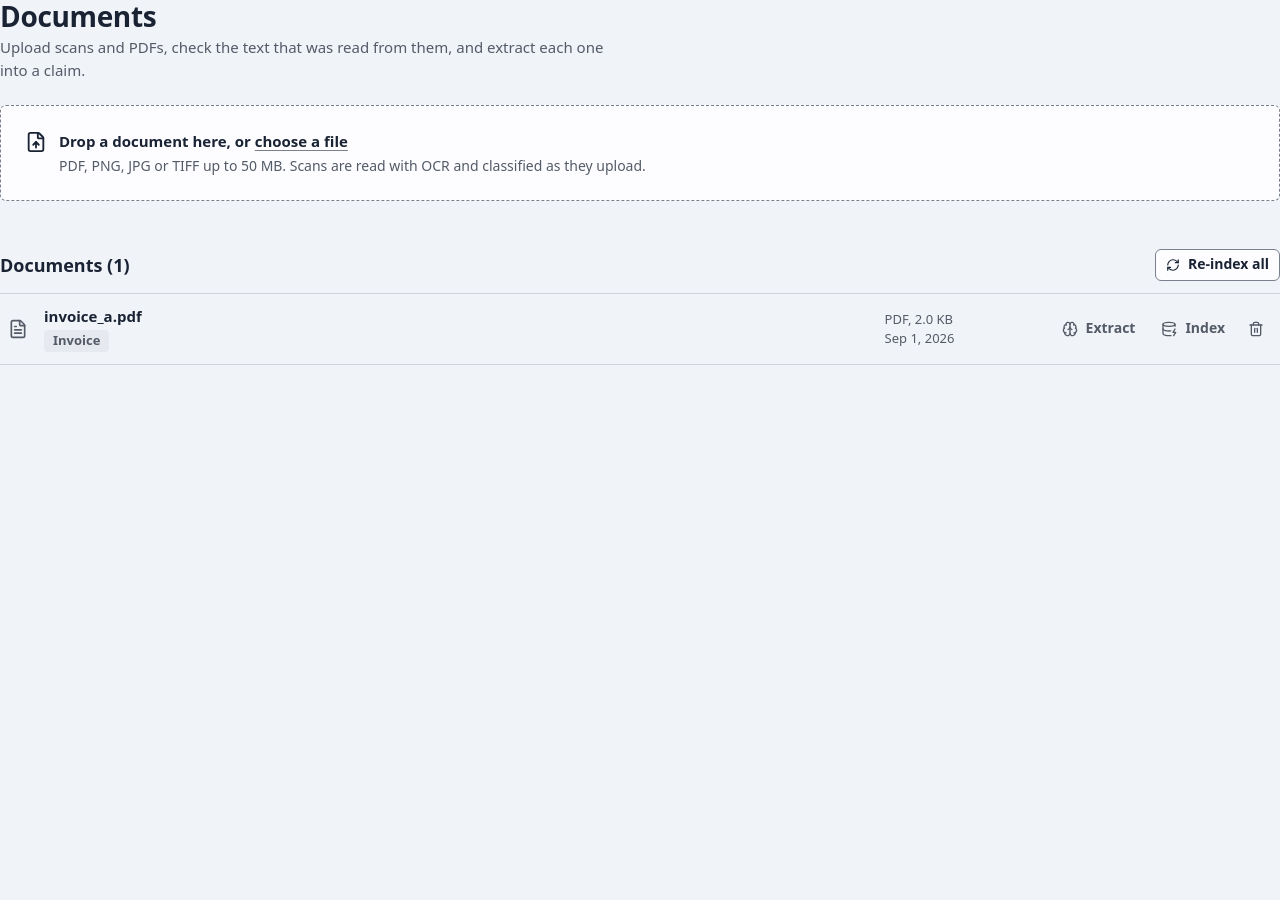
DocumentsPage › opens the document viewer outside the page container
The image size is (1280, 900).
Click the button with aria-label "View invoice_a.pdf". click: (93, 316)
box: x1=44 y1=306 x2=142 y2=326
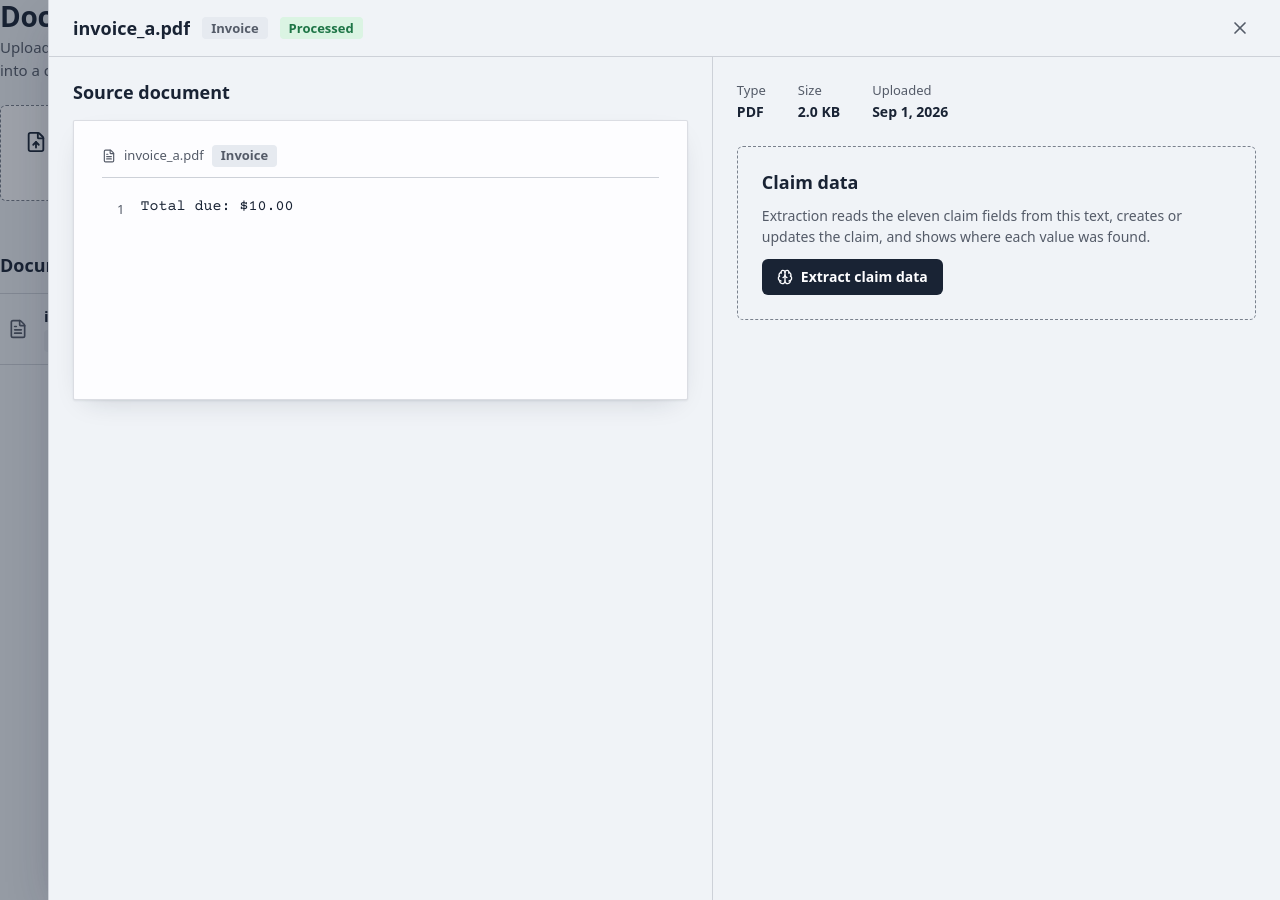
expect the text "Total due: $10.00" is shown: met, box x1=140 y1=198 x2=293 y2=214
